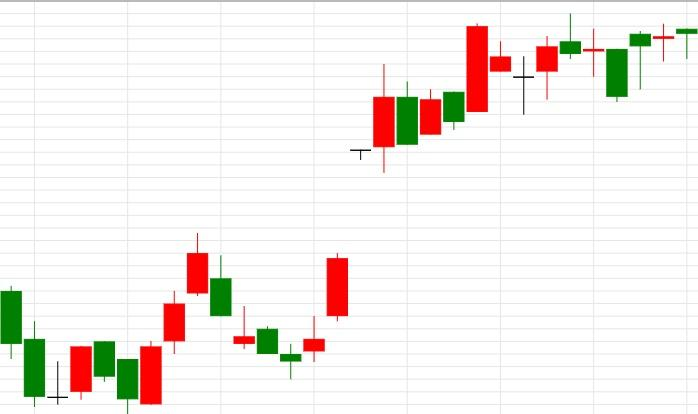three_white_soldiers_rise: (0, 233, 209, 414)
